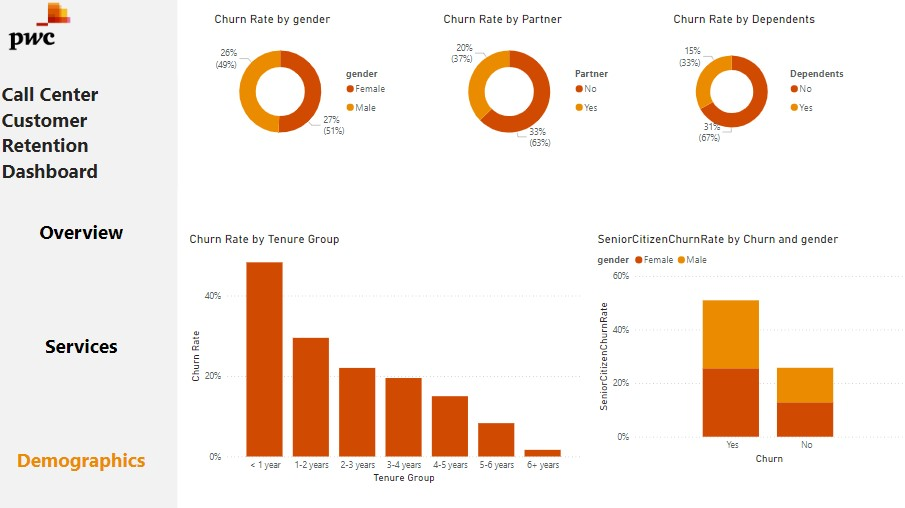

What the dashboard file says about the page in this screenshot:
{"tool":"powerbi","page":{"name":"Demographics","canvas":[1280,720],"ordinal":2},"visuals":[{"type":"shape","box":[0,0,252.7,720.3],"z":0},{"type":"image","box":[0,0,117.6,77],"z":1000},{"type":"actionButton","box":[16.9,280.9,200.5,94.6],"z":2000},{"type":"actionButton","box":[16.9,441.1,200.5,94.6],"z":3000},{"type":"actionButton","box":[17.6,601.4,200,94.6],"z":4000},{"type":"textbox","box":[0,109.5,252.7,158.1],"z":5000},{"type":"donutChart","fields":{"Y":["01 Churn-Dataset.Churn Rate"],"Category":["01 Churn-Dataset.Partner"]},"box":[622.1,17.9,260,205.1],"z":6000},{"type":"donutChart","fields":{"Category":["01 Churn-Dataset.Dependents"],"Y":["01 Churn-Dataset.Churn Rate"]},"box":[946.9,17.9,260,205.1],"z":7000},{"type":"donutChart","fields":{"Y":["01 Churn-Dataset.Churn Rate"],"Category":["01 Churn-Dataset.gender"]},"box":[300,17.9,260.1,205.1],"z":8000},{"type":"clusteredColumnChart","fields":{"Category":["01 Churn-Dataset.Tenure Group"],"Y":["01 Churn-Dataset.Churn Rate"]},"box":[264.3,327.6,560.2,359.2],"z":9000},{"type":"columnChart","fields":{"Category":["01 Churn-Dataset.Churn"],"Y":["01 Churn-Dataset.SeniorCitizenChurnRate"],"Series":["01 Churn-Dataset.gender"]},"box":[839.6,327.6,440.4,331.7],"z":10000}]}

Visuals, with their boxes in screenshot pixels (x1, y1, x2, y2), scaled from the page's 1280x720 canvas onto the 905x508 screenshot:
shape: Rect(0, 0, 179, 507)
image: Rect(0, 0, 83, 54)
actionButton: Rect(12, 198, 154, 265)
actionButton: Rect(12, 311, 154, 378)
actionButton: Rect(12, 424, 154, 491)
textbox: Rect(0, 77, 179, 189)
donutChart - 01 Churn-Dataset.Churn Rate x 01 Churn-Dataset.Partner: Rect(440, 13, 624, 157)
donutChart - 01 Churn-Dataset.Dependents x 01 Churn-Dataset.Churn Rate: Rect(669, 13, 853, 157)
donutChart - 01 Churn-Dataset.Churn Rate x 01 Churn-Dataset.gender: Rect(212, 13, 396, 157)
clusteredColumnChart - 01 Churn-Dataset.Tenure Group x 01 Churn-Dataset.Churn Rate: Rect(187, 231, 583, 485)
columnChart - 01 Churn-Dataset.Churn x 01 Churn-Dataset.SeniorCitizenChurnRate: Rect(594, 231, 904, 465)
